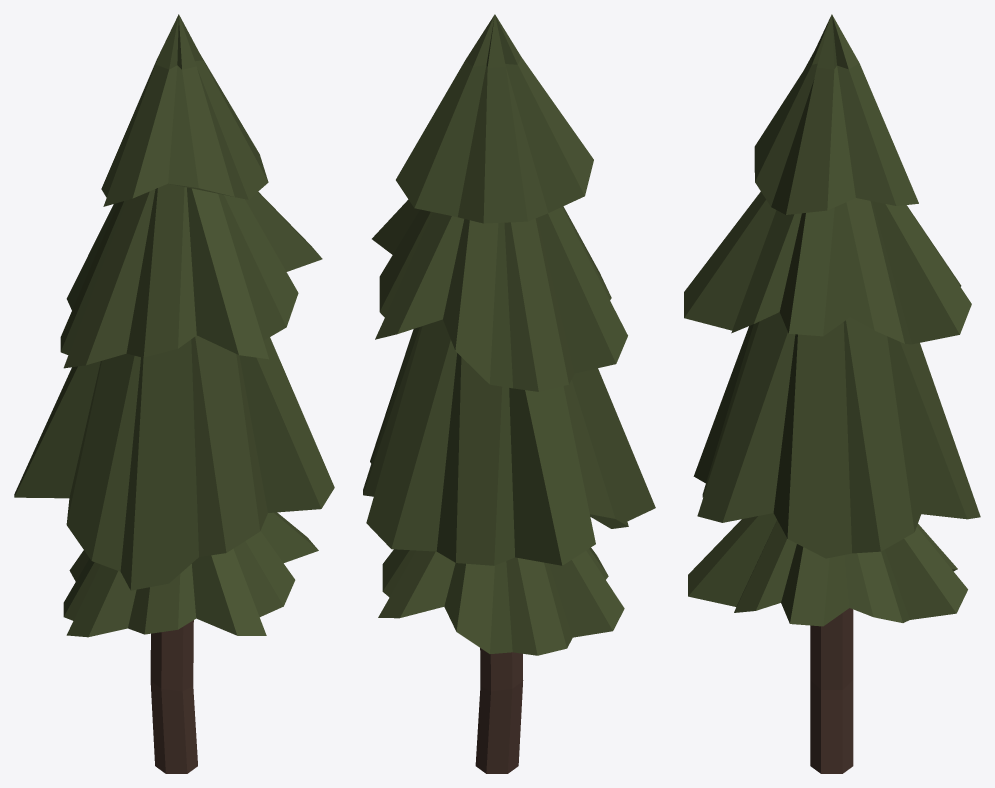
Rendered from Tree_Type2_04.glb.
The picture shows the model from 3 angles, left to right: view 1: azimuth 30°, elevation 25°; view 2: azimuth 150°, elevation 25°; view 3: azimuth 270°, elevation 25°; orthographic projection.
Parts seen in each view (by area): view 1: Tree Type2 04 Model; view 2: Tree Type2 04 Model; view 3: Tree Type2 04 Model.
Part boxes in pixels (bbox=[...]): Tree Type2 04 Model: bbox=[14, 14, 334, 773]; Tree Type2 04 Model: bbox=[363, 14, 655, 773]; Tree Type2 04 Model: bbox=[684, 14, 980, 773].
Bounding box in the file's own units: 1.89 × 5.21 × 1.86.
Materials: 1 (1 with a texture image).
